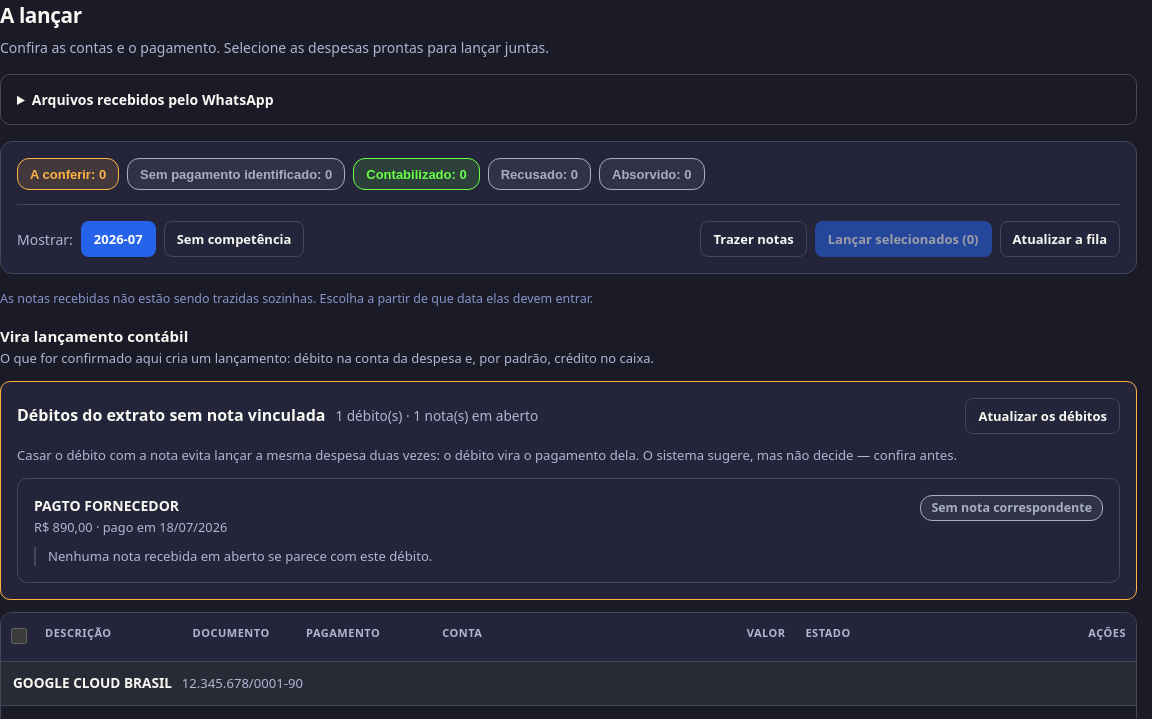
Test case: ⚠⚠ a Conferência DIZ se as notas estão sendo trazidas sozinho › ⚠⚠⚠ LIGAR pela tela ATUALIZA a linha — sem isso ela NEGA o que a pessoa acabou de fazer
Expected: the text "não estão sendo trazidas sozinhas" is shown, [0,290,593,307]
Step 1. Click the button "Trazer notas" → point(754, 239), box [700,221,807,257]
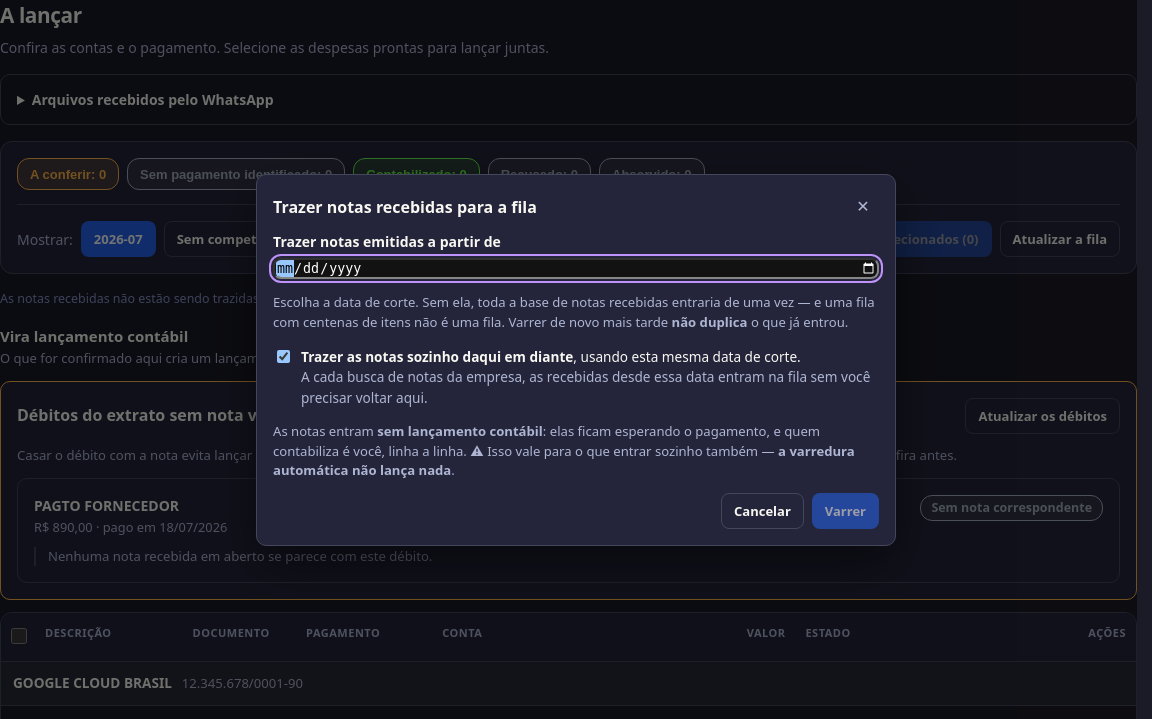
Step 2. Type "2026-07-01" into the date field labelled "Trazer notas emitidas a partir de" → point(576, 269), box [273,258,879,279]
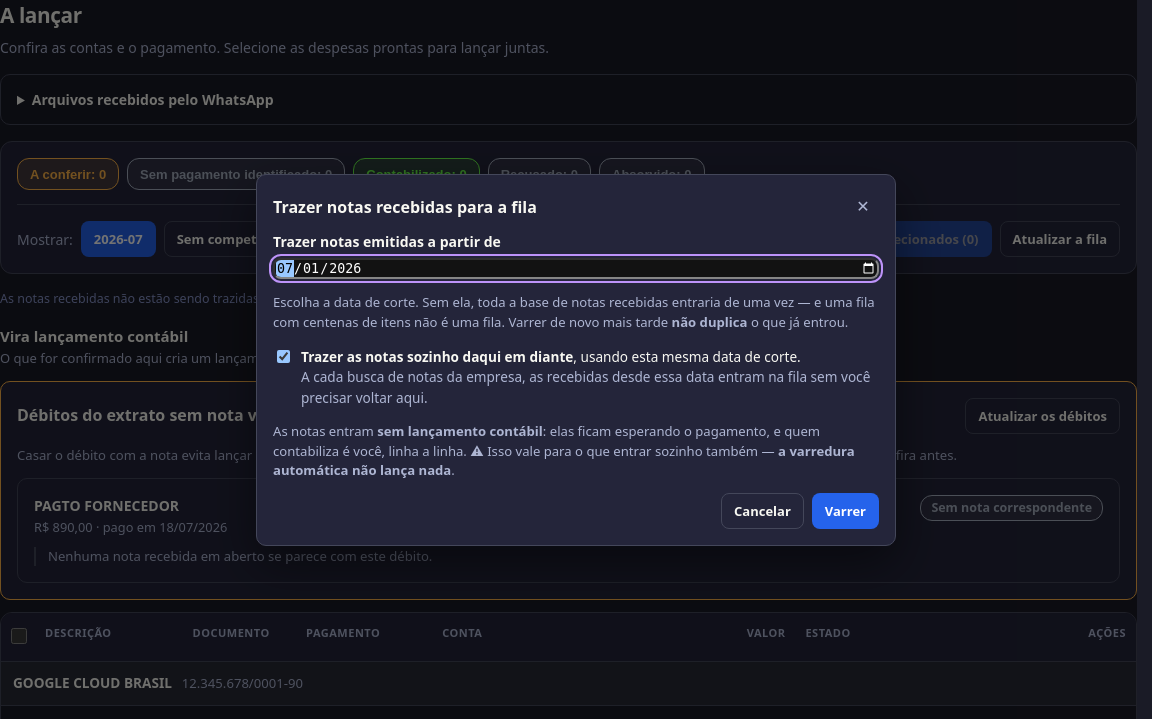
Step 3. Click the button "Varrer" → point(845, 511), box [812,493,879,529]
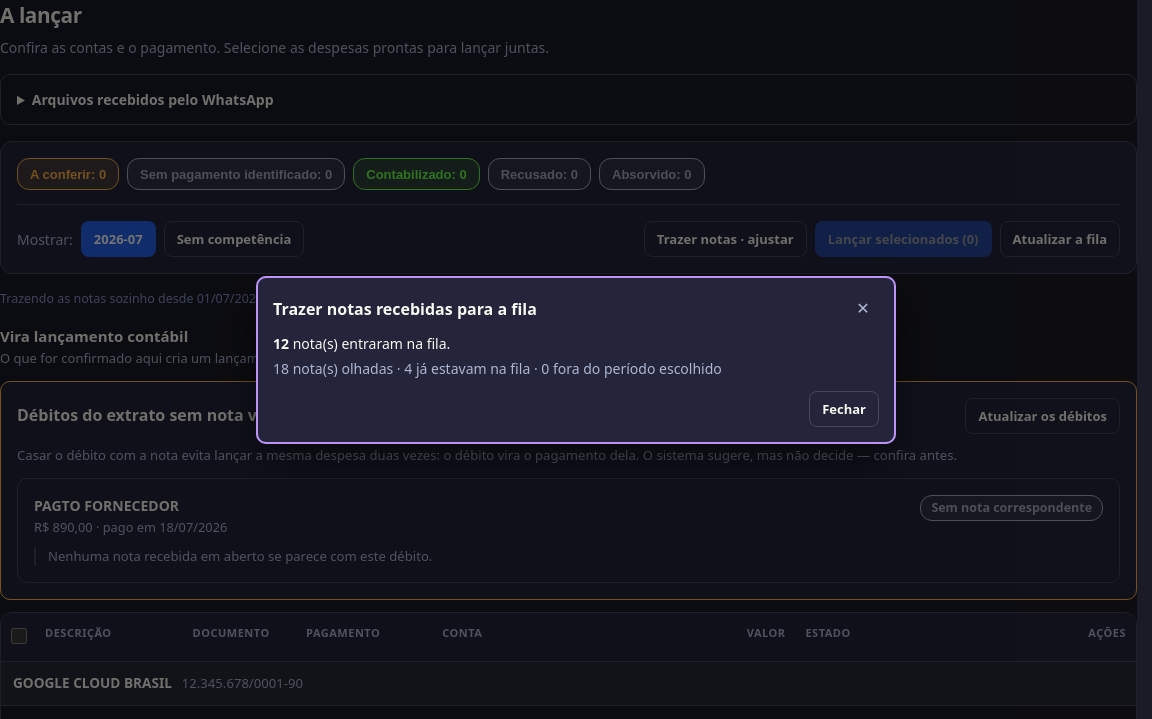
Expected: the text "Trazendo as notas sozinho desde 01/07/2026" is shown, [0,290,541,307]
Expected: the text "não estão sendo trazidas sozinhas" is gone
